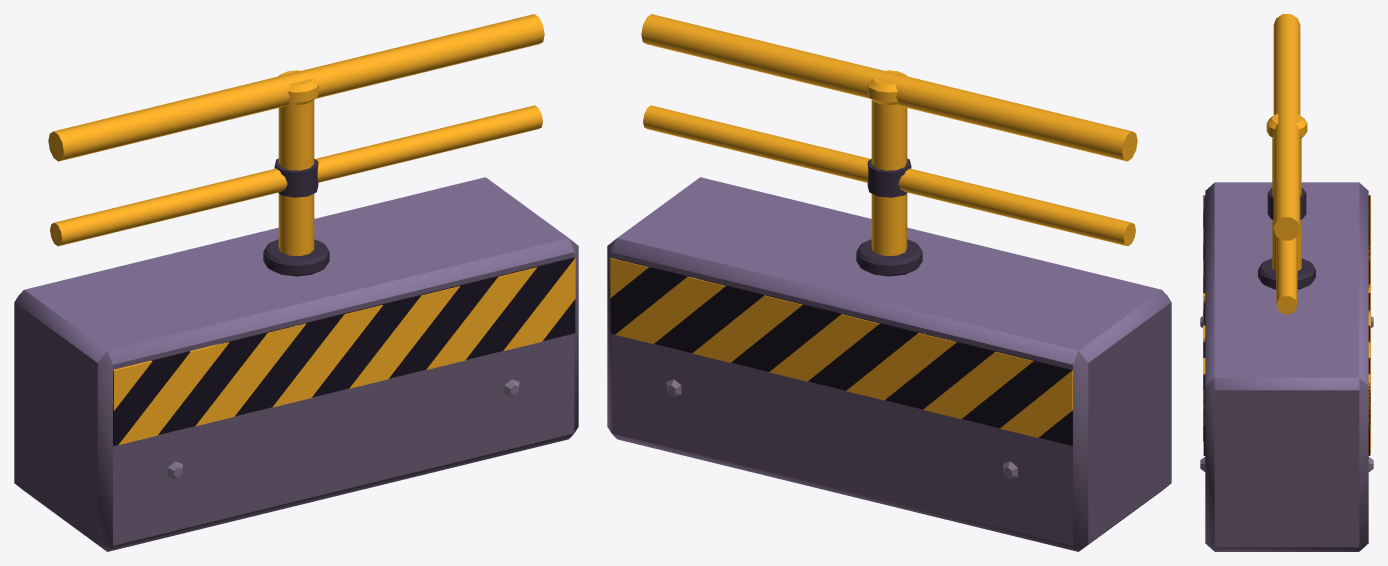
Rendered from barrier_low__lower.glb.
3 views of the same model, side by side, from view 1: azimuth 30°, elevation 25°; view 2: azimuth 150°, elevation 25°; view 3: azimuth 270°, elevation 25° (orthographic). The views are drawn at different scales.
Parts seen in each view (by area): view 1: barrier_low; view 2: barrier_low; view 3: barrier_low.
Boxes of the visible parts, bbox=[...] form: barrier_low: bbox=[14, 14, 578, 551]; barrier_low: bbox=[607, 14, 1171, 551]; barrier_low: bbox=[1200, 14, 1373, 551].
Size of the model in its own units: 1 by 0.7766 by 0.36.
